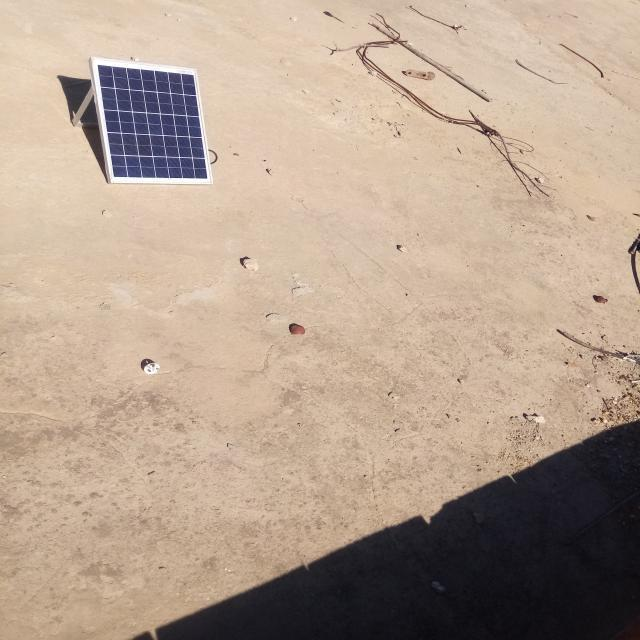Normal Solar Panel: (98, 62, 213, 186)
